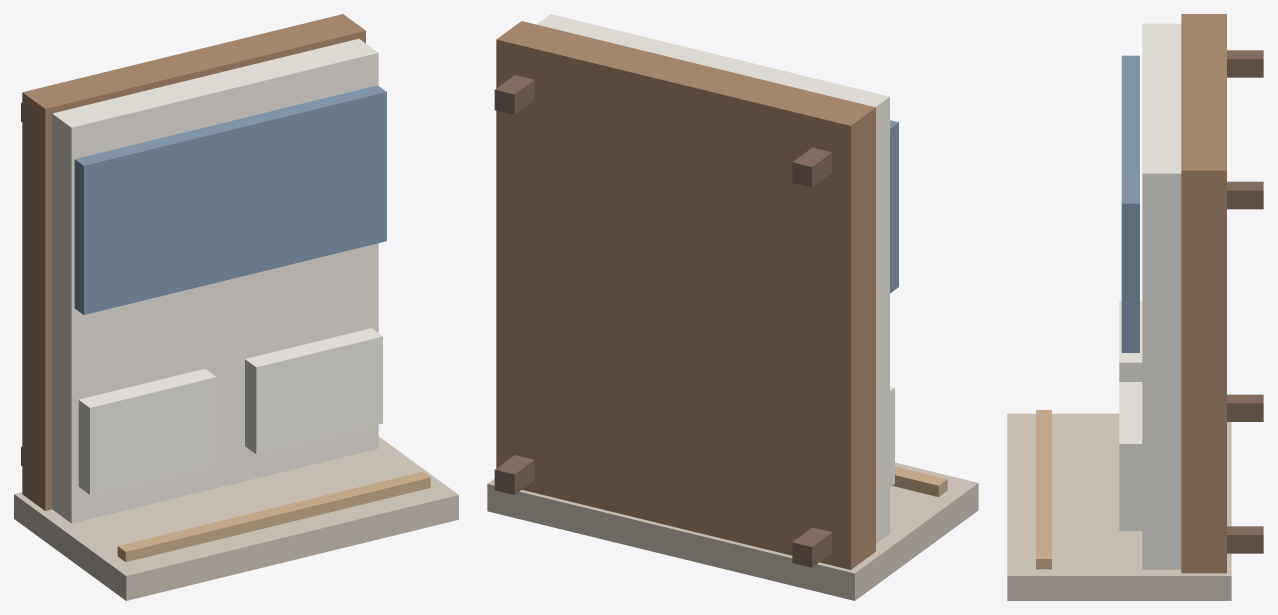
File: queen_bed.glb
3 views of the same model, side by side, from view 1: azimuth 30°, elevation 25°; view 2: azimuth 150°, elevation 25°; view 3: azimuth 270°, elevation 25° (orthographic). The views are drawn at different scales.
Visible parts, largest first — view 1: part_1, part_6, part_2, part_0, part_4, part_5, part_3; view 2: part_0, part_2, part_1, part_6, part_7, part_9, part_8, part_10, part_3; view 3: part_0, part_2, part_1, part_6, part_5, part_3, part_10, part_7, part_8, part_9, part_4.
Boxes of the visible parts, x1=… form: part_1: x1=52, y1=38, x2=378, y2=523; part_6: x1=74, y1=85, x2=386, y2=314; part_2: x1=14, y1=436, x2=458, y2=600; part_0: x1=22, y1=14, x2=365, y2=510; part_4: x1=78, y1=369, x2=216, y2=494; part_5: x1=245, y1=328, x2=382, y2=454; part_3: x1=117, y1=471, x2=430, y2=561; part_0: x1=496, y1=21, x2=875, y2=569; part_2: x1=487, y1=462, x2=978, y2=600; part_1: x1=536, y1=14, x2=889, y2=543; part_6: x1=890, y1=120, x2=898, y2=293; part_7: x1=792, y1=527, x2=832, y2=567; part_9: x1=494, y1=455, x2=534, y2=494; part_8: x1=792, y1=147, x2=832, y2=187; part_10: x1=494, y1=75, x2=534, y2=114; part_3: x1=892, y1=466, x2=947, y2=496; part_0: x1=1181, y1=14, x2=1226, y2=573; part_2: x1=1007, y1=413, x2=1231, y2=600; part_1: x1=1142, y1=23, x2=1181, y2=569; part_6: x1=1121, y1=55, x2=1139, y2=352; part_5: x1=1119, y1=382, x2=1142, y2=530; part_3: x1=1036, y1=410, x2=1051, y2=569; part_10: x1=1227, y1=181, x2=1263, y2=209; part_7: x1=1227, y1=394, x2=1263, y2=421; part_8: x1=1227, y1=50, x2=1263, y2=77; part_9: x1=1227, y1=526, x2=1263, y2=553; part_4: x1=1119, y1=301, x2=1142, y2=381.
Size of the model in its own units: 1.68 by 2.06 by 1.12.
